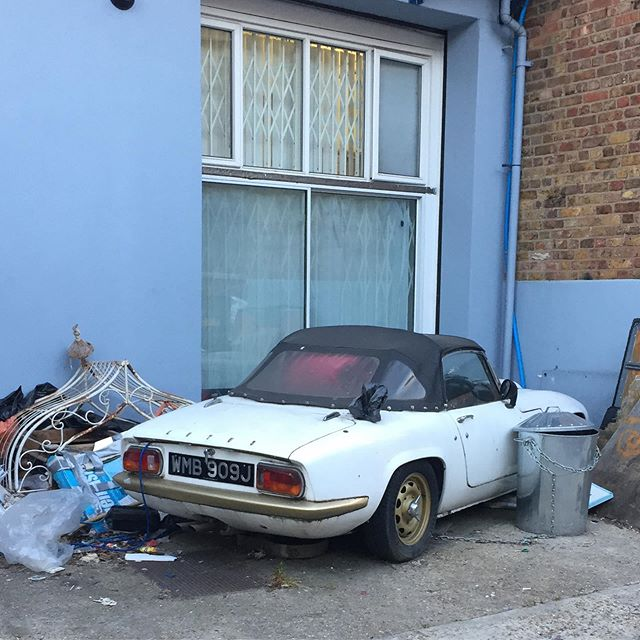car: (138, 326, 588, 566)
trash: (1, 360, 201, 568)
window: (193, 10, 436, 345)
